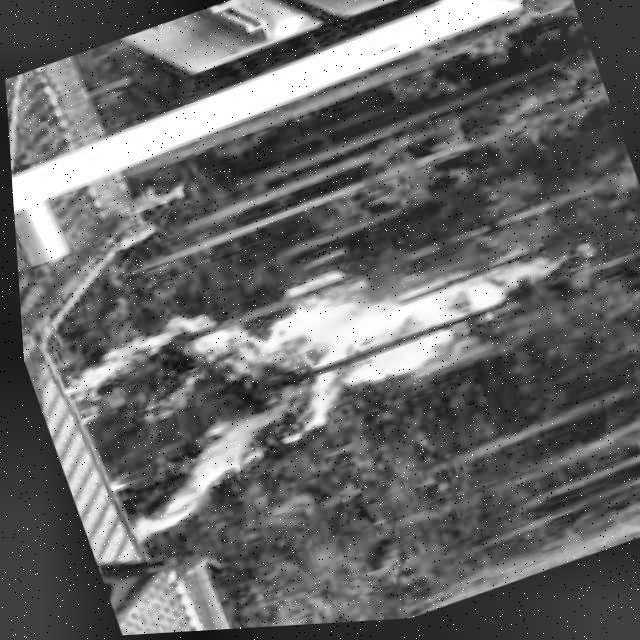Fire: (44, 175, 640, 564)
